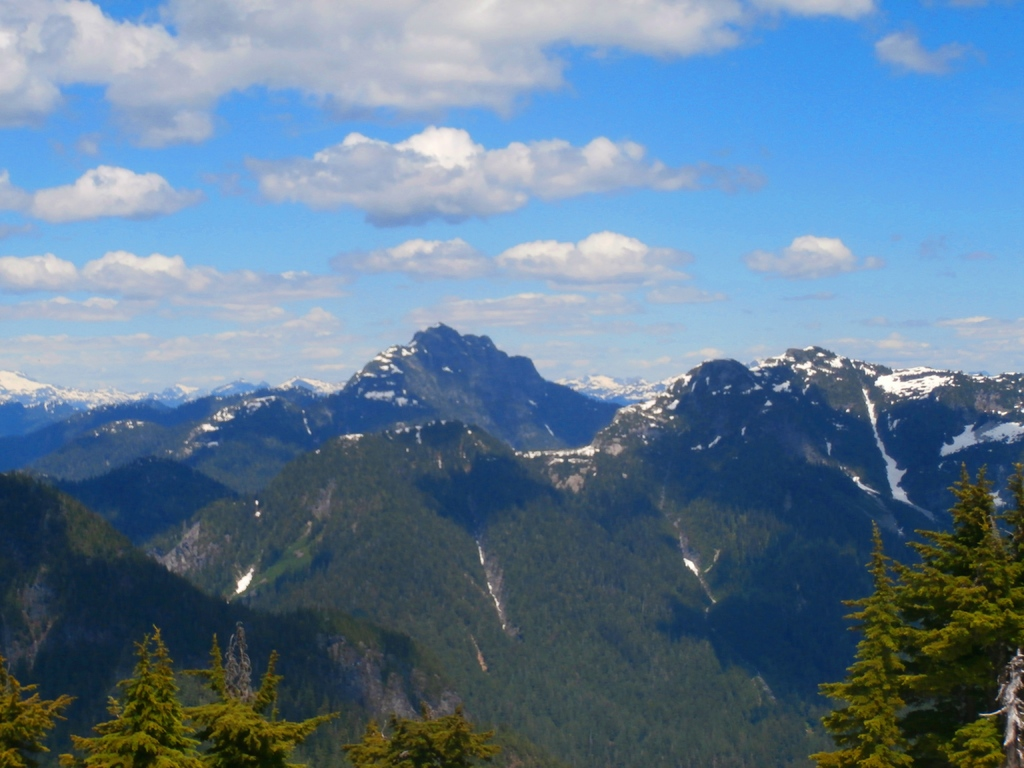Tree: (802, 522, 946, 767), (181, 616, 337, 767), (71, 625, 208, 767), (339, 718, 504, 767), (0, 658, 72, 767)
